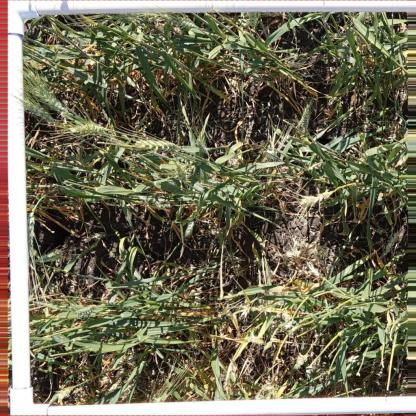whd: (31, 89, 67, 113), (22, 101, 53, 123), (300, 190, 332, 206), (136, 139, 177, 151), (105, 12, 164, 20), (68, 123, 104, 135), (286, 243, 303, 262), (119, 381, 135, 401), (385, 232, 399, 254), (37, 250, 60, 263), (29, 71, 45, 89), (300, 104, 312, 127), (216, 308, 224, 342), (54, 388, 73, 402), (173, 162, 187, 180), (28, 212, 34, 253), (194, 139, 209, 154), (276, 203, 290, 219), (115, 15, 137, 25), (84, 232, 106, 242), (307, 263, 321, 277), (261, 383, 277, 394), (131, 163, 146, 174), (180, 20, 196, 30), (259, 12, 285, 18), (152, 392, 166, 403), (184, 221, 194, 236), (288, 59, 304, 68), (98, 375, 110, 387), (74, 146, 83, 162), (150, 379, 158, 397), (251, 335, 265, 345), (286, 53, 300, 63), (296, 353, 307, 365), (107, 382, 118, 394), (248, 13, 258, 26), (75, 308, 91, 316), (229, 78, 240, 89), (265, 149, 277, 159), (220, 307, 232, 317), (154, 203, 171, 210), (66, 303, 82, 310), (281, 312, 292, 322), (204, 228, 222, 234), (206, 179, 222, 185), (241, 304, 249, 316), (173, 25, 182, 35), (65, 154, 75, 162), (239, 18, 249, 26), (264, 342, 271, 351), (257, 195, 265, 202)
